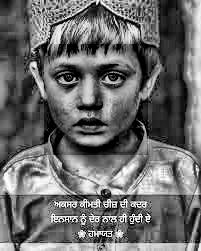sad: (45, 44, 149, 155)
